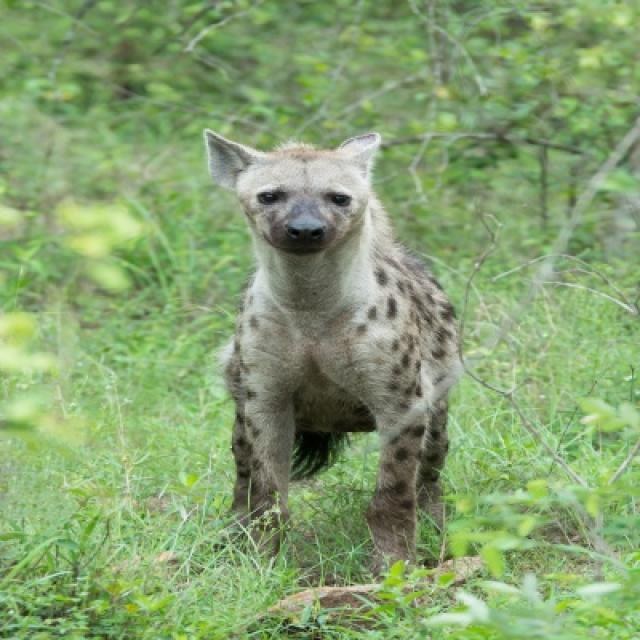hyena: (205, 131, 461, 558)
